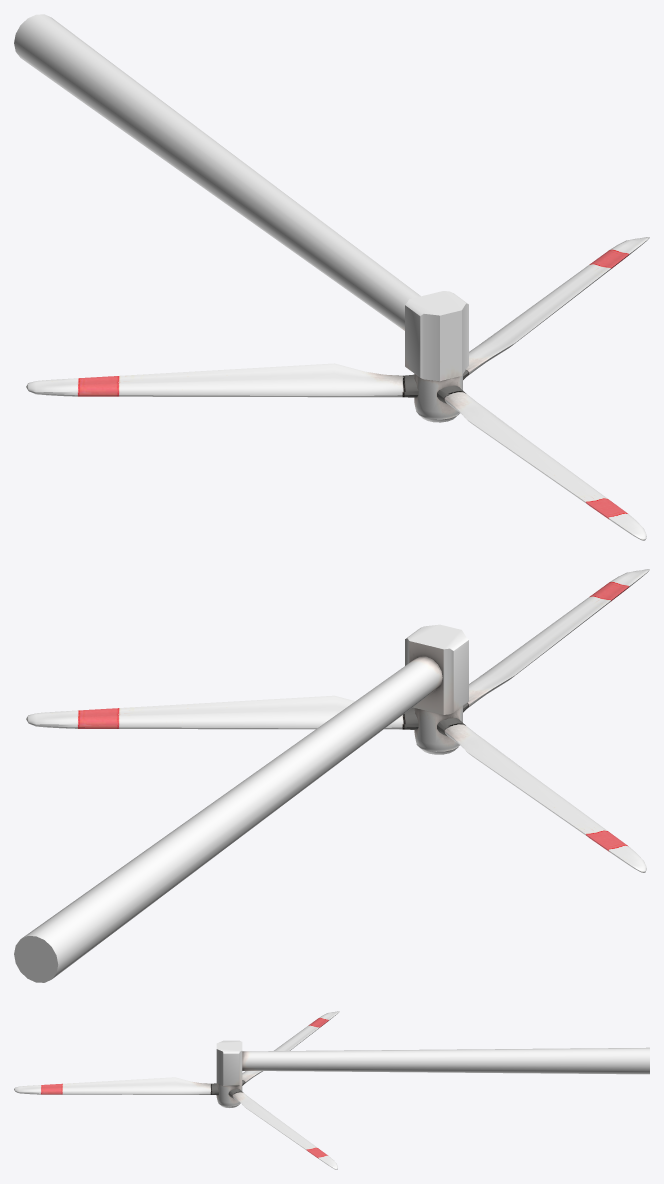
The model's file is WindTurbine.fbx.
The picture shows the model from 3 angles, top to bottom: view 1: azimuth 30°, elevation 25°; view 2: azimuth 150°, elevation 25°; view 3: azimuth 270°, elevation 25°; orthographic projection. The views are drawn at different scales.
Parts seen in each view (by area): view 1: Windturbine Support_0, Windturbine Blades_1; view 2: Windturbine Support_0, Windturbine Blades_1; view 3: Windturbine Support_0, Windturbine Blades_1.
Boxes of the visible parts, x1,y1,x2,y2 form: Windturbine Support_0: (14,14,468,381); Windturbine Blades_1: (26,237,649,540); Windturbine Support_0: (14,624,468,982); Windturbine Blades_1: (26,569,649,872); Windturbine Support_0: (216,1040,649,1085); Windturbine Blades_1: (14,1011,339,1169).
Size of the model in its own units: 11.69 by 2.13 by 19.91.
1 material, 1 textured.
